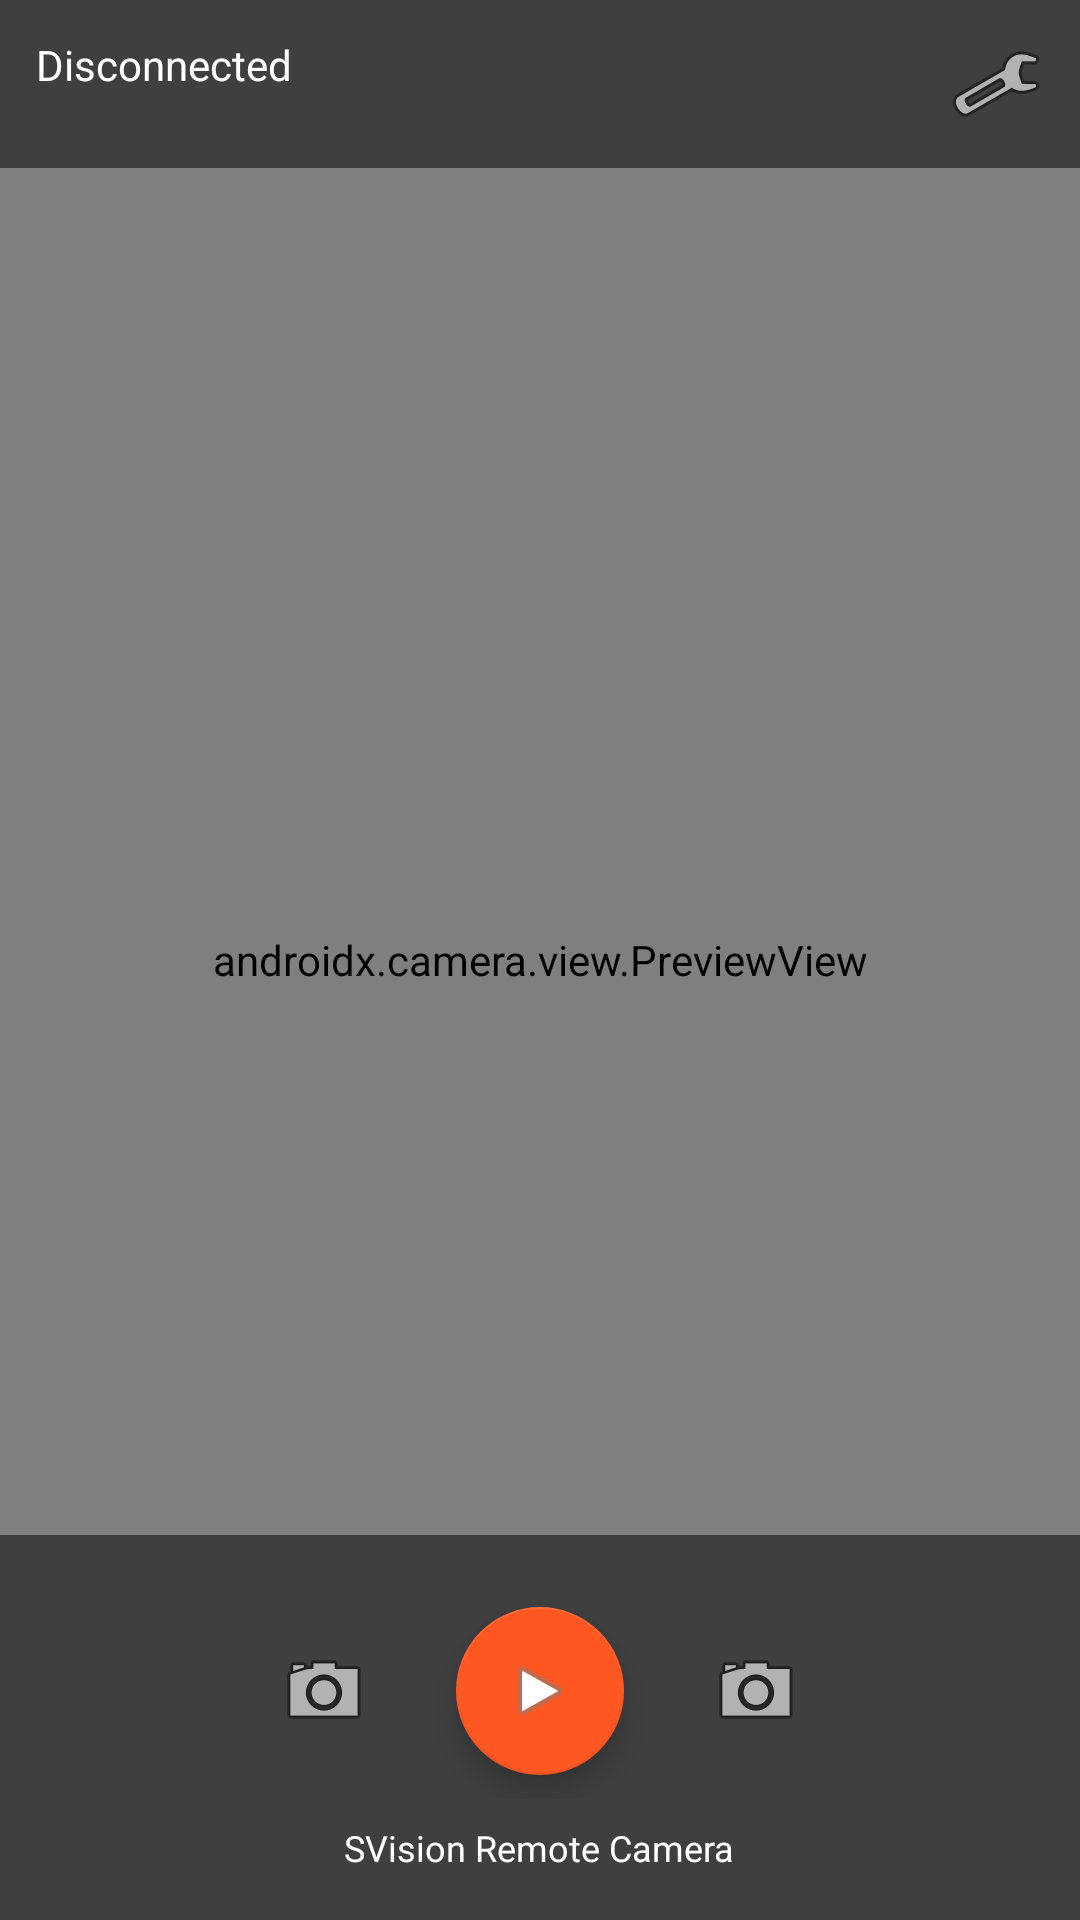

Locate icon controls on the screen. Image size 1080w x 1920h, boxes as (x1, y1, x2, y2).
Capture Photo: (720, 1661, 792, 1718)
Settings: (953, 52, 1039, 116)
Start Streaming: (456, 1607, 624, 1775)
